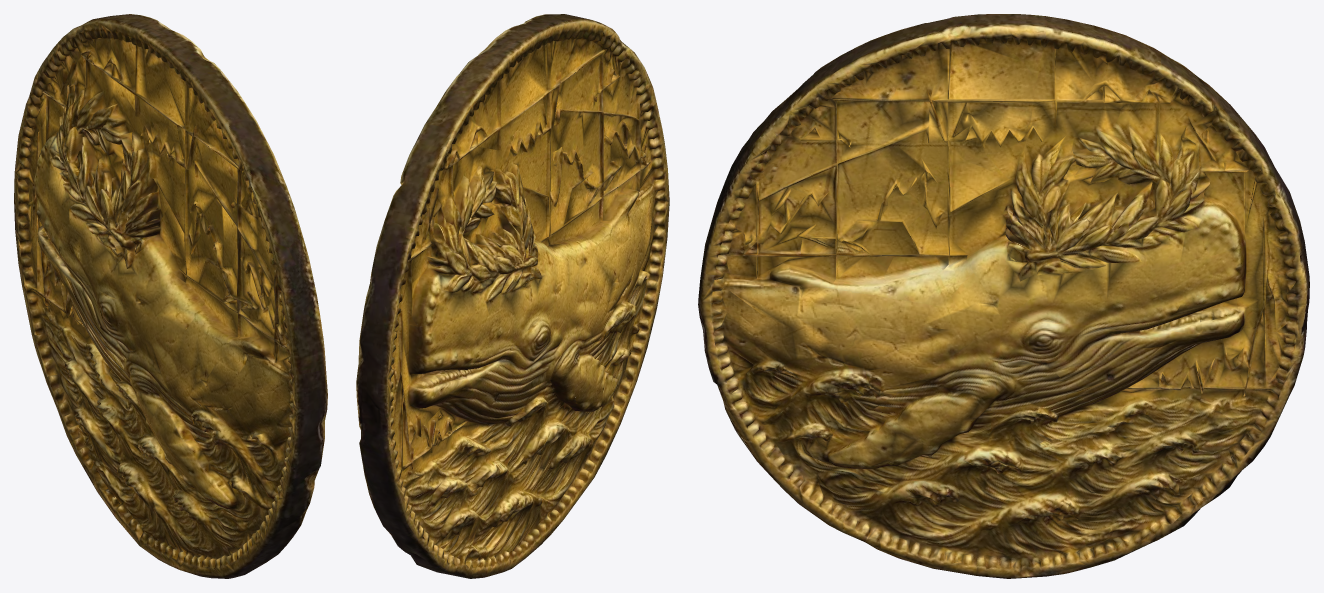
The model's file is hero-whale.glb.
3 renders of one model, left to right at view 1: azimuth 30°, elevation 25°; view 2: azimuth 150°, elevation 25°; view 3: azimuth 270°, elevation 25°, orthographic. The views are drawn at different scales.
Parts seen in each view (by area): view 1: tripo_node_a5621f5d-f3a6-4167-a068-cdf275799885; view 2: tripo_node_a5621f5d-f3a6-4167-a068-cdf275799885; view 3: tripo_node_a5621f5d-f3a6-4167-a068-cdf275799885.
Part boxes in pixels (bbox=[...]): tripo_node_a5621f5d-f3a6-4167-a068-cdf275799885: bbox=[14, 14, 327, 578]; tripo_node_a5621f5d-f3a6-4167-a068-cdf275799885: bbox=[356, 14, 669, 578]; tripo_node_a5621f5d-f3a6-4167-a068-cdf275799885: bbox=[698, 14, 1309, 578].
Size of the model in its own units: 0.1926 by 0.994 by 0.9963.
1 material, 1 textured.
